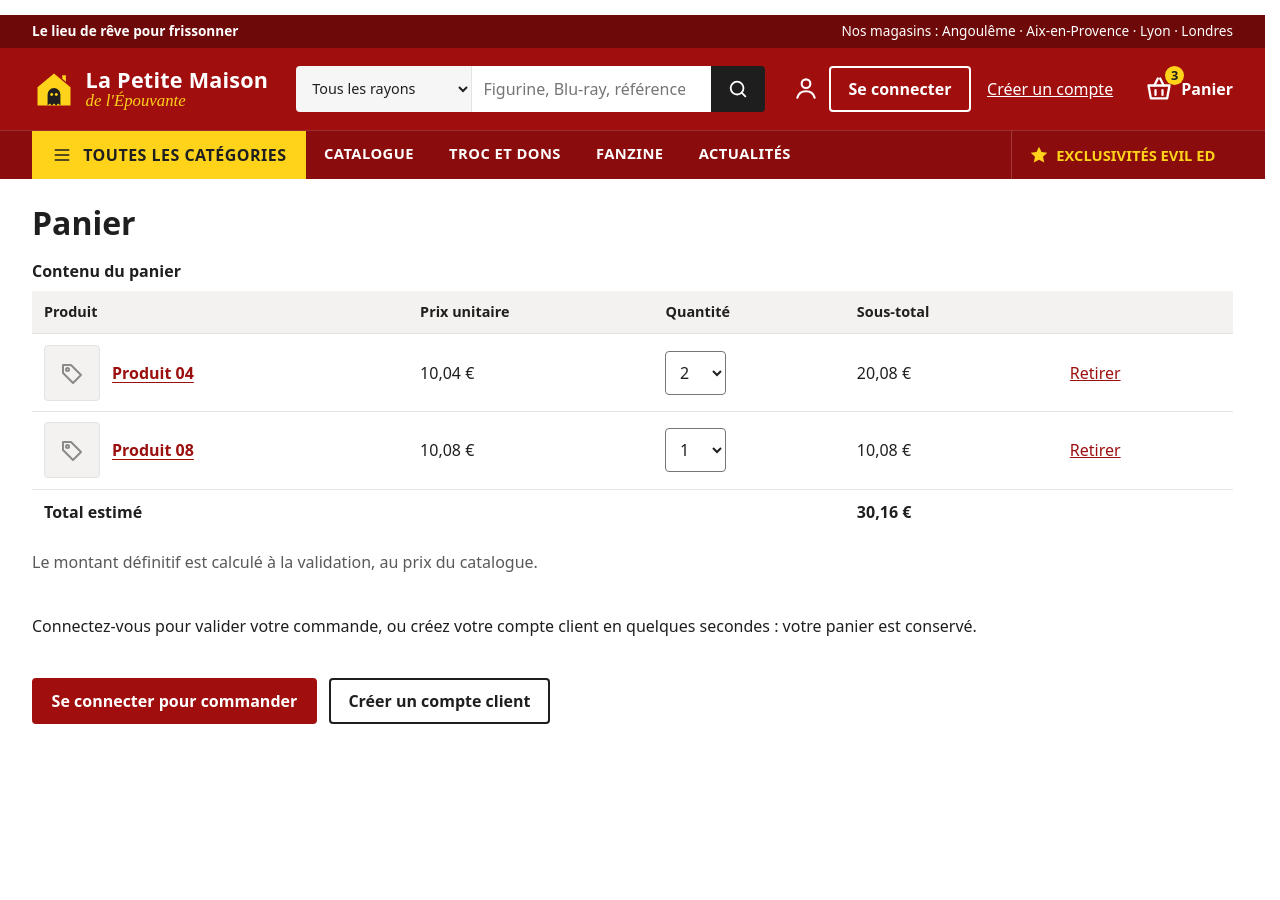
Test: Panier › présente un tableau accessible et recalcule le total
This screenshot has width=1280, height=900.
(page scrolled)
Expected: the heading "Panier" is shown, [32, 201, 136, 244]
Expected: the column heading "Produit 04" is shown, [32, 334, 408, 411]
Select "3" in the dropdown named "Quantité pour « Produit 08 »" in the row of "Produit 08" at [696, 450], box [666, 428, 726, 472]
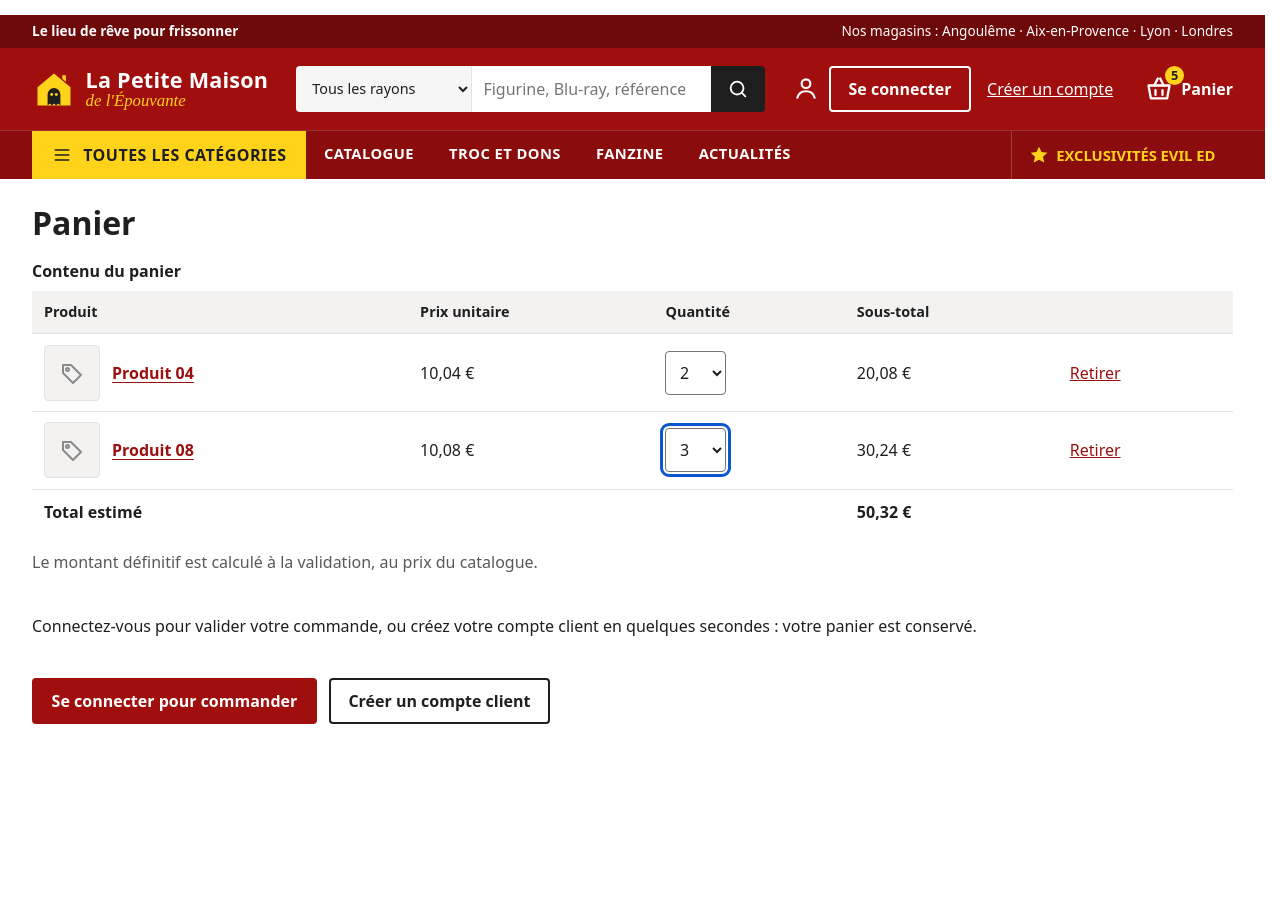
Now the row "Total estimé 50,32 €" is shown, box [32, 489, 1233, 534]
Click the button named "Retirer « Produit 04 » du panier" at [1095, 372], box [1066, 356, 1125, 388]
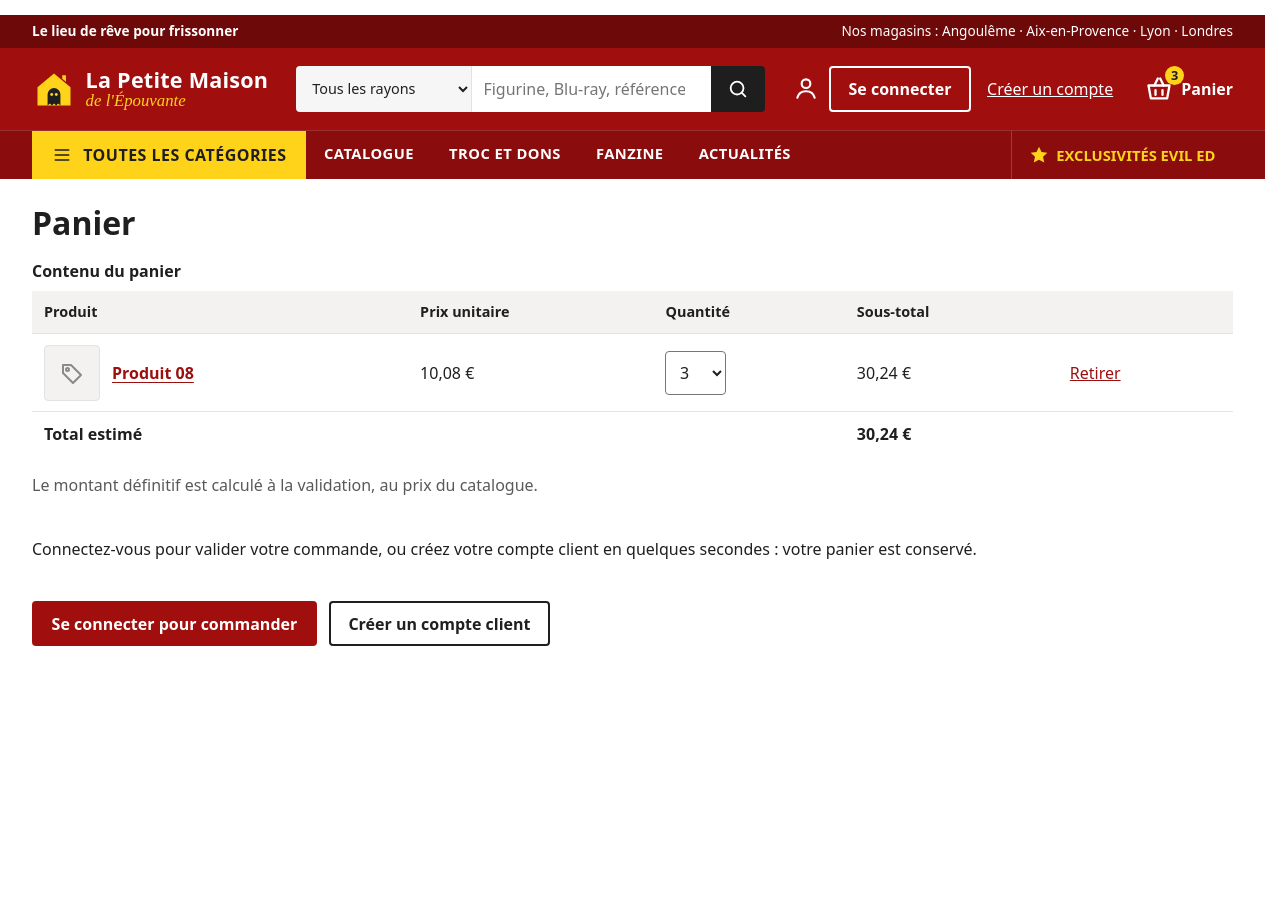
Now the link "Produit 04" is gone
Now the row "Total estimé 30,24 €" is shown, box [32, 411, 1233, 457]
